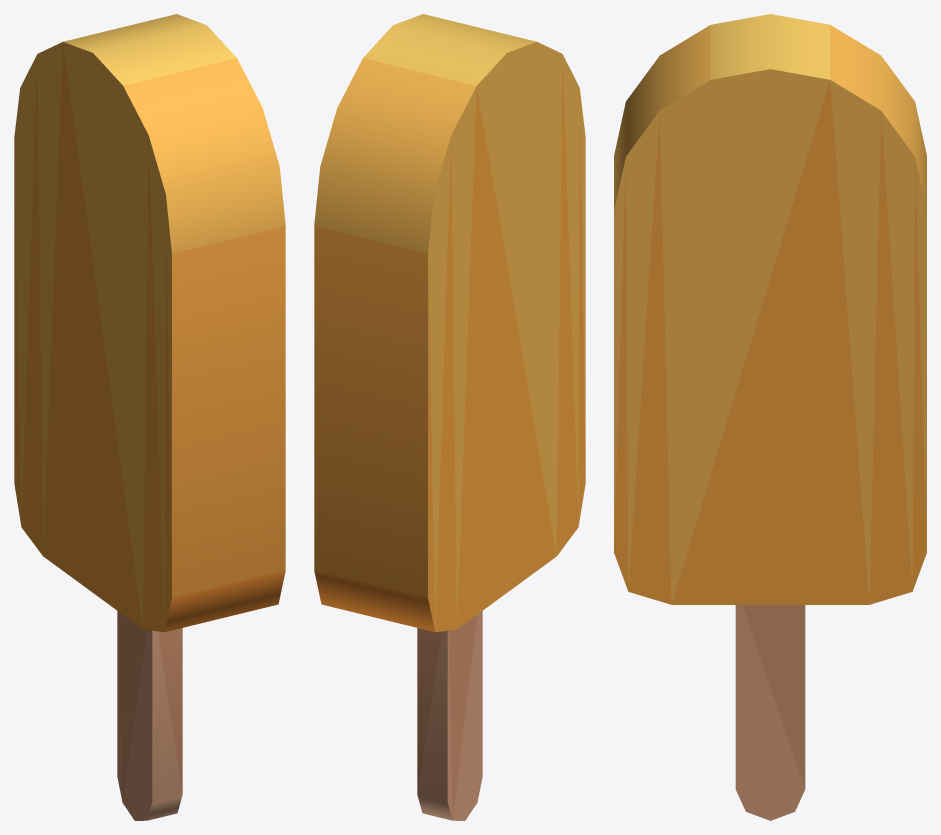
File: picole.glb
The picture shows the model from 3 angles, left to right: view 1: azimuth 30°, elevation 25°; view 2: azimuth 150°, elevation 25°; view 3: azimuth 270°, elevation 25°; orthographic projection.
Parts seen in each view (by area): view 1: popsicle; view 2: popsicle; view 3: popsicle.
Boxes of the visible parts, bbox=[...] form: popsicle: bbox=[14, 14, 285, 820]; popsicle: bbox=[314, 14, 585, 820]; popsicle: bbox=[614, 14, 926, 820].
Bounding box in the file's own units: 0.075 × 0.49 × 0.18.
